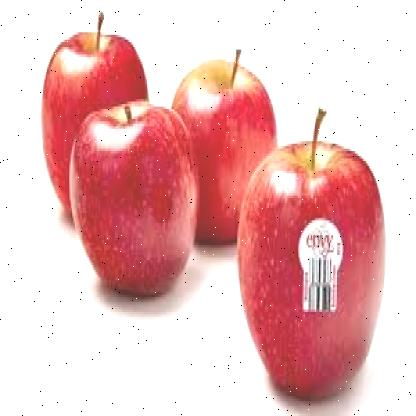apple: (236, 142, 388, 393), (72, 99, 190, 307), (42, 28, 146, 218), (174, 52, 274, 233)
